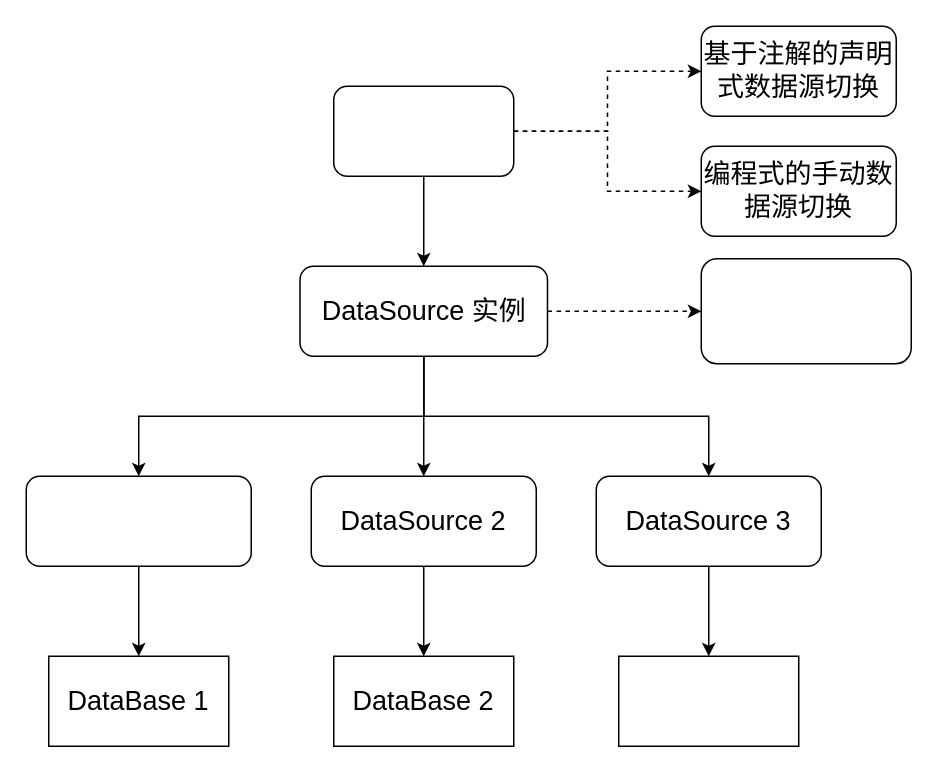
This 938x773 diagram has some shape labels left out. Each missing label, with the centre of its shape:
"DataBase 3" belongs at (708,700).
"DataSource 1" belongs at (138,520).
"方法调用" belongs at (423,130).
"选择一个本次方法调用使用的实际数据源实例" belongs at (805,310).
